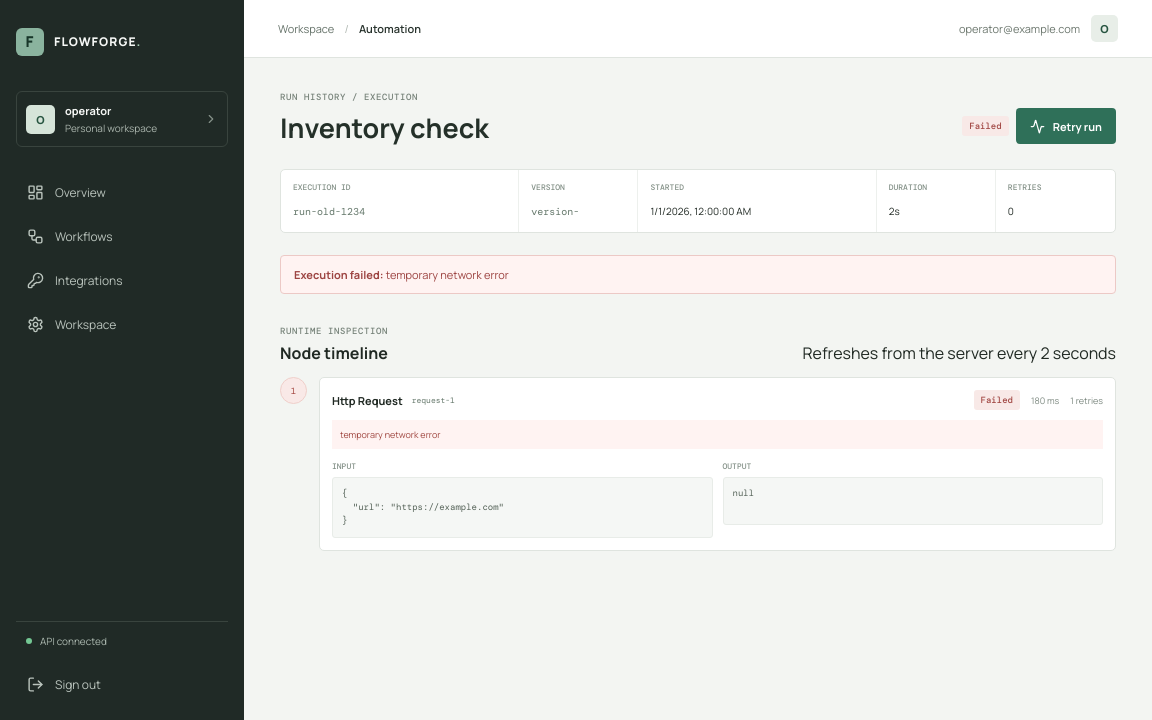
Scenario: execution details show persisted node data and retry failed executions
The image size is (1152, 720).
Expected: the heading "Inventory check" is shown, [280,112,489,144]
Expected: the text "http request" is shown, [332,393,403,408]
Click the button "Retry run": (1066, 126) [1016,108,1116,144]
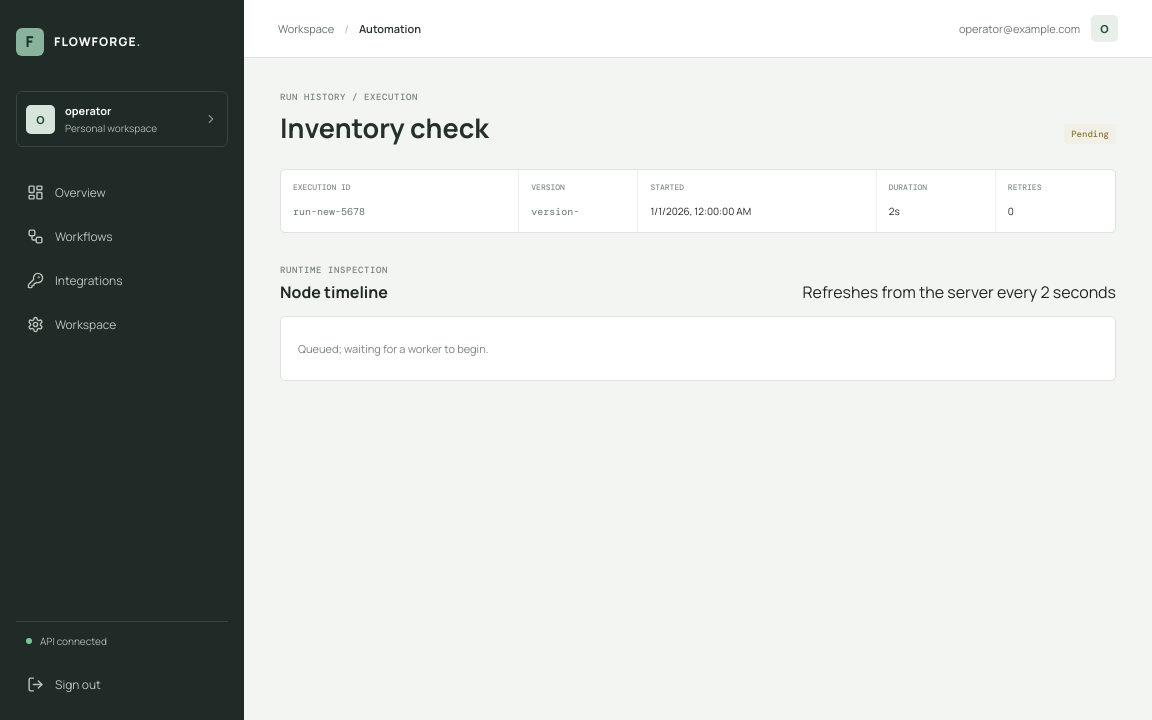
Now the text "run-new-5678" is shown, box [293,205,365,218]
